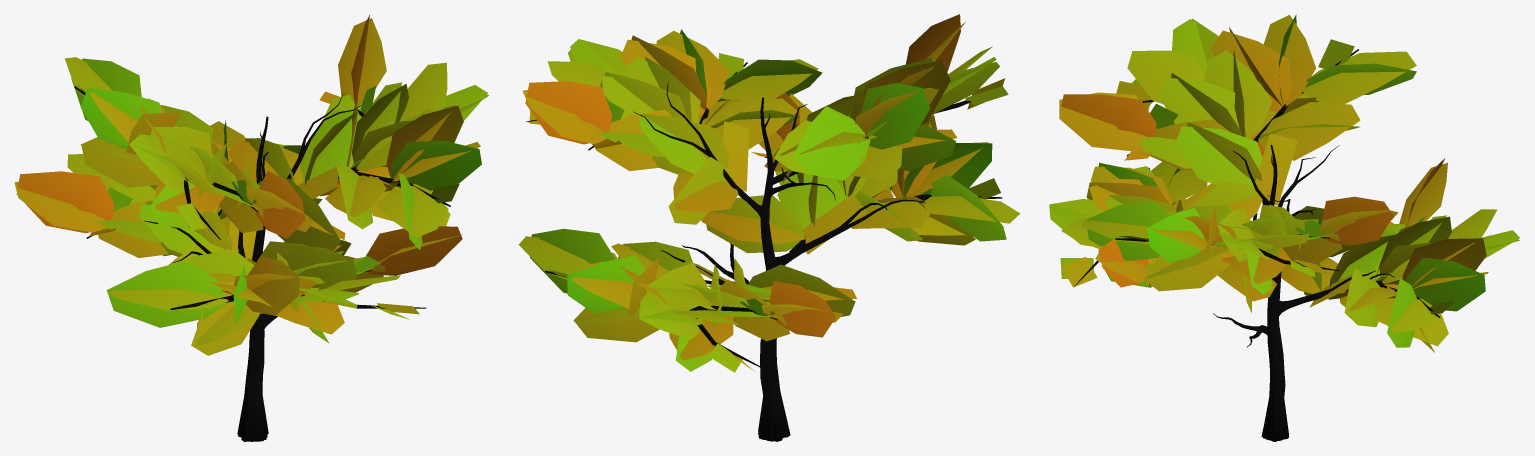
Rendered from Tree_small_2.glb.
3 views of the same model, side by side, from view 1: azimuth 30°, elevation 25°; view 2: azimuth 150°, elevation 25°; view 3: azimuth 270°, elevation 25° (orthographic). The views are drawn at different scales.
Visible parts, largest first — view 1: Tree small 2; view 2: Tree small 2; view 3: Tree small 2.
Boxes of the visible parts, x1,y1,x2,y2 form: Tree small 2: (14,15,488,441); Tree small 2: (518,14,1020,441); Tree small 2: (1049,14,1519,441).
Size of the model in its own units: 16.86 by 15.28 by 18.6.
